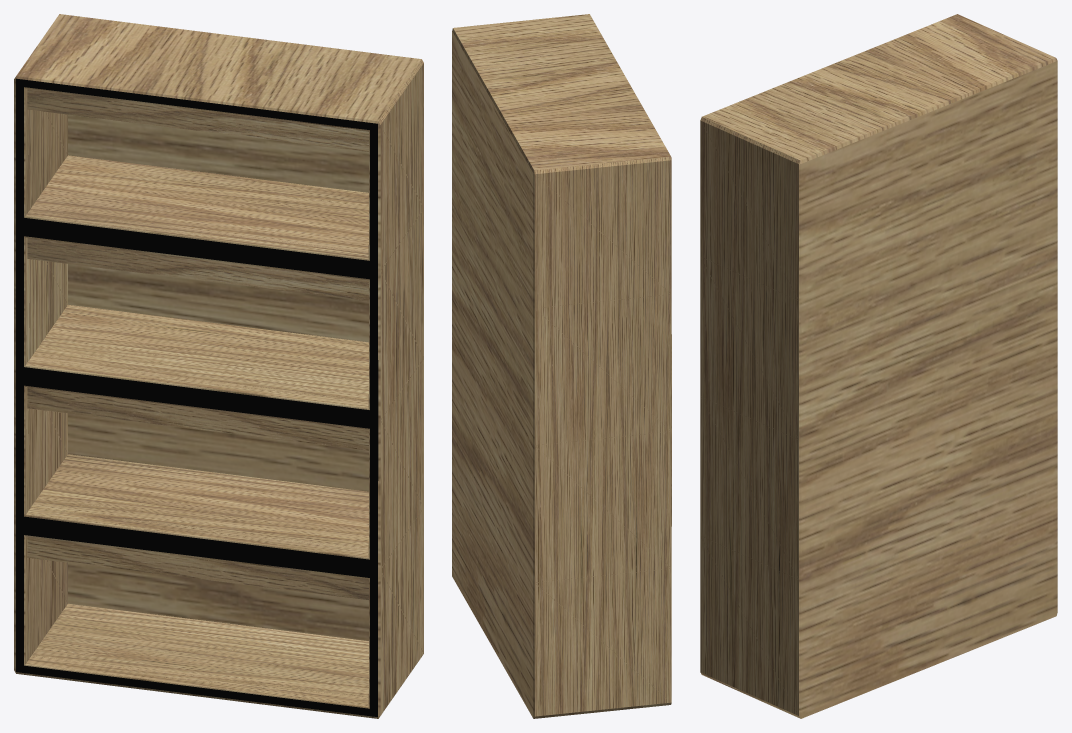
The model's file is Bookshelf.fbx.
The picture shows the model from 3 angles, left to right: view 1: azimuth 30°, elevation 25°; view 2: azimuth 150°, elevation 25°; view 3: azimuth 270°, elevation 25°; orthographic projection. The views are drawn at different scales.
Parts seen in each view (by area): view 1: Bookshelf; view 2: Bookshelf; view 3: Bookshelf.
Part boxes in pixels (box(x1,y1,x2,y2)): Bookshelf: box(14, 14, 423, 718); Bookshelf: box(452, 14, 671, 718); Bookshelf: box(700, 14, 1057, 718).
Bounding box in the file's own units: 657 × 1157 × 671.
